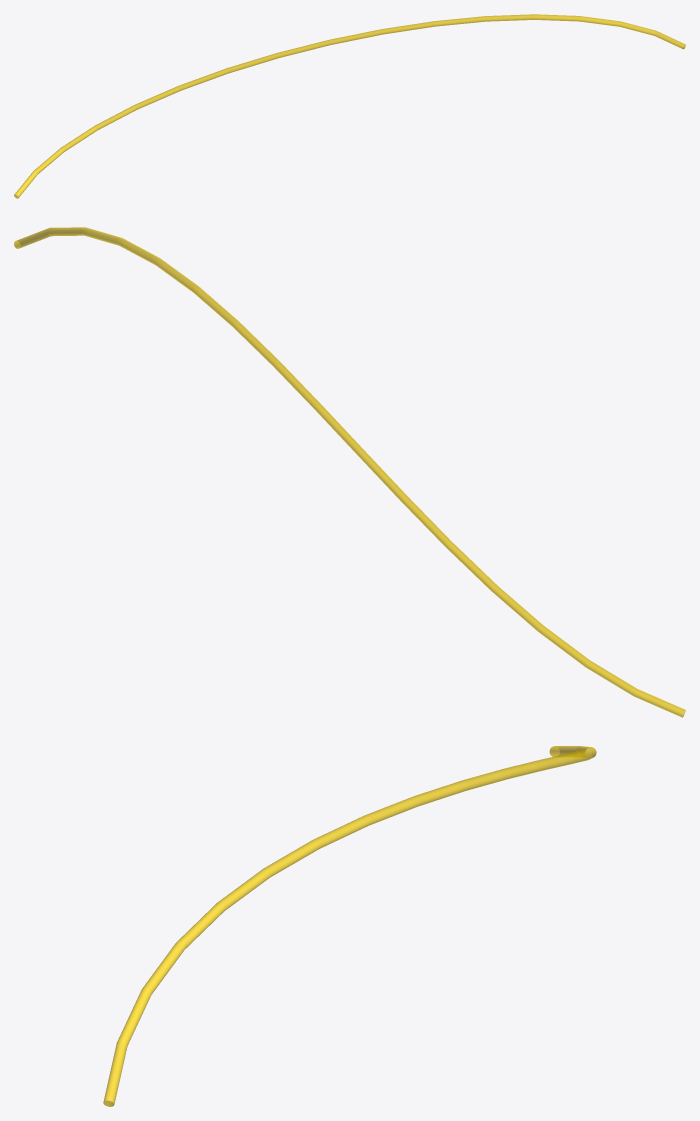
Rendered from Event_75125125_track_66.fbx.
The picture shows the model from 3 angles, top to bottom: view 1: azimuth 30°, elevation 25°; view 2: azimuth 150°, elevation 25°; view 3: azimuth 270°, elevation 25°; orthographic projection. The views are drawn at different scales.
Visible parts, largest first — view 1: Model; view 2: Model; view 3: Model.
Part boxes in pixels (x1=…): Model: x1=14, y1=14, x2=685, y2=198; Model: x1=14, y1=227, x2=685, y2=717; Model: x1=103, y1=746, x2=596, y2=1106.
Bounding box in the file's own units: 4.59 × 1.09 × 1.75.
